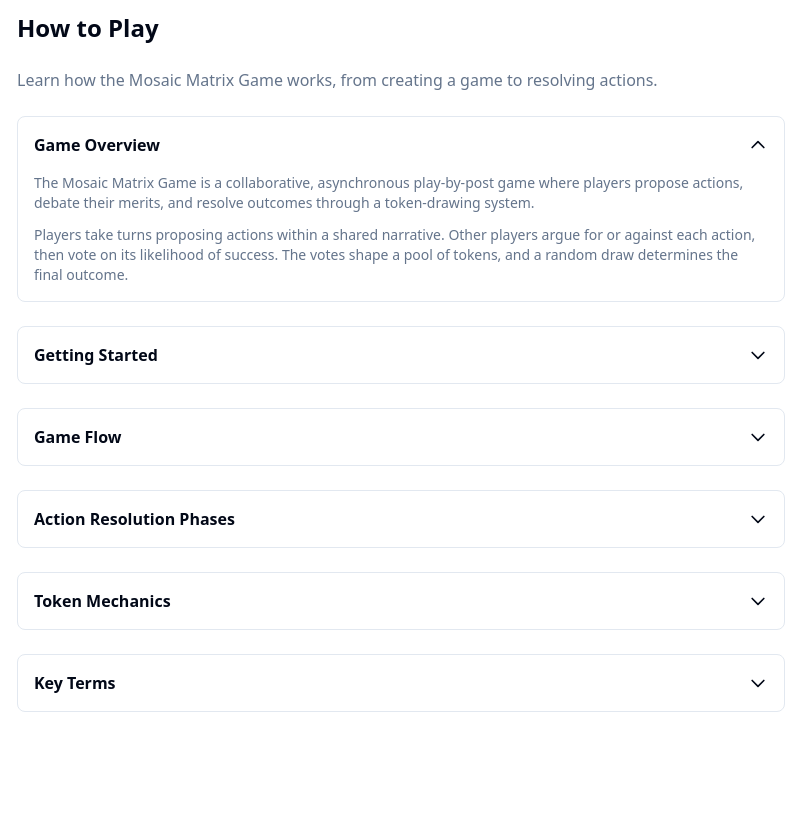
Test: Help Page › should toggle section visibility when clicking header
This screenshot has width=803, height=819.
Click the button "Token Mechanics" at (102, 601), box [18,573,784,629]
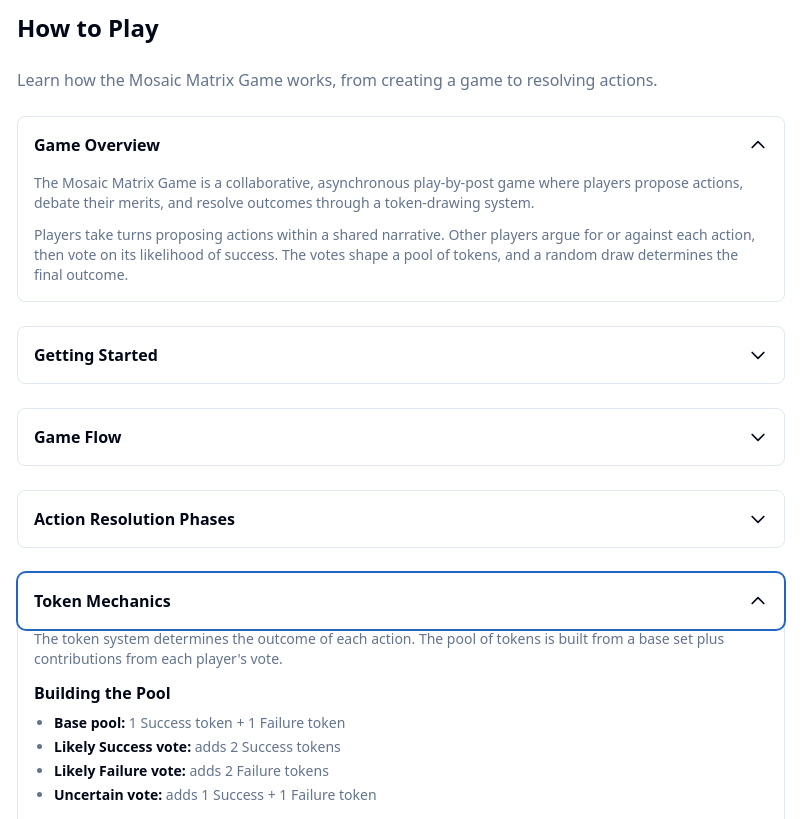
Now the button "Token Mechanics" is expanded
Click the button "Token Mechanics" at (102, 601), box [18,573,784,629]
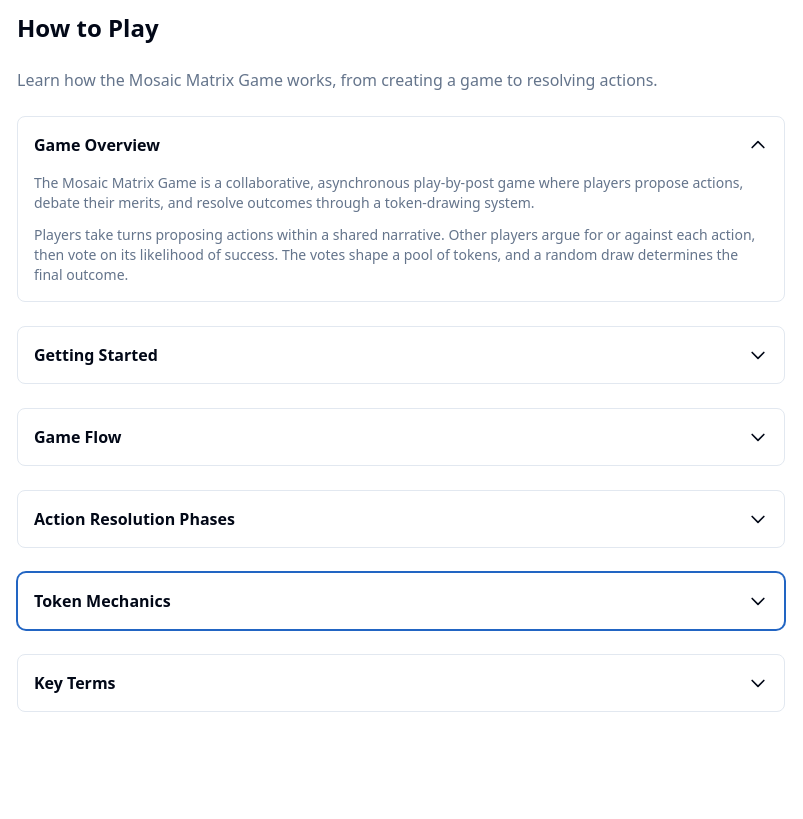
Now the button "Token Mechanics" is collapsed, box [18,573,784,629]
